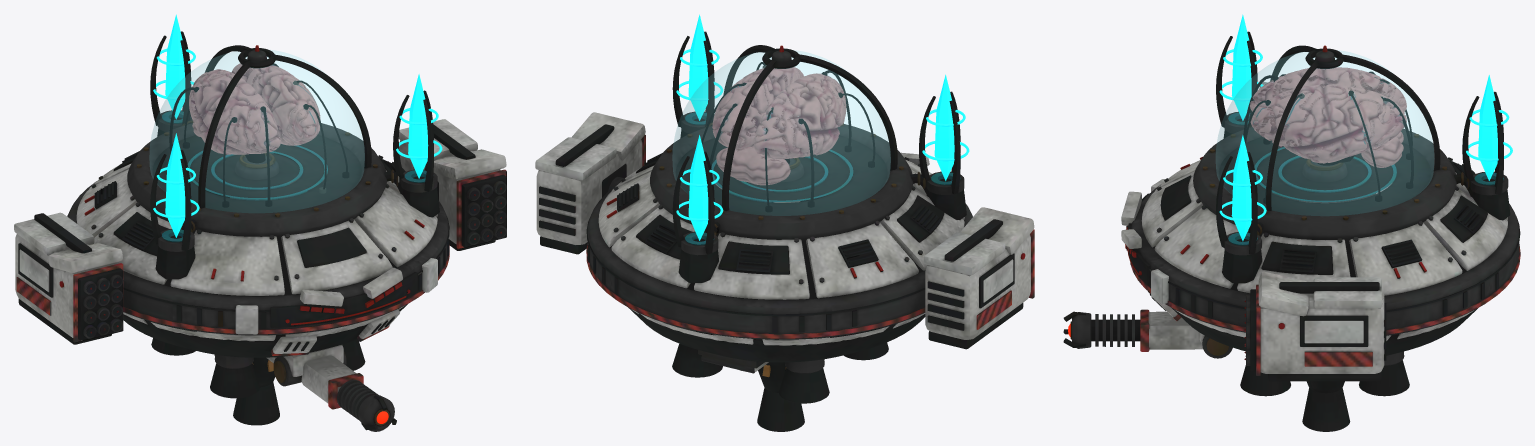
Rendered from boss-nanobot.glb.
3 renders of one model, left to right at view 1: azimuth 30°, elevation 25°; view 2: azimuth 150°, elevation 25°; view 3: azimuth 270°, elevation 25°, orthographic.
Parts seen in each view (by area): view 1: attack-membrane, nanobot-dome, nanobot-pod-L, nanobot-brain, nanobot-pod-R, nanobot-pylon-1, nanobot-pylon-2, nanobot-pylon-0; view 2: attack-membrane, nanobot-dome, nanobot-brain, nanobot-pod-L, nanobot-pod-R, nanobot-pylon-1, nanobot-pylon-0, nanobot-pylon-2; view 3: attack-membrane, nanobot-dome, nanobot-pod-R, nanobot-brain, nanobot-pylon-2, nanobot-pylon-0, nanobot-pylon-1.
Part boxes in pixels (left/top/right/bottom): attack-membrane: left=67, top=31, right=449, bottom=431; nanobot-dome: left=149, top=50, right=364, bottom=212; nanobot-pod-L: left=14, top=212, right=123, bottom=344; nanobot-brain: left=169, top=63, right=349, bottom=207; nanobot-pod-R: left=398, top=119, right=506, bottom=250; nanobot-pylon-1: left=153, top=133, right=199, bottom=237; nanobot-pylon-2: left=396, top=74, right=442, bottom=178; nanobot-pylon-0: left=153, top=14, right=195, bottom=119; attack-membrane: left=586, top=31, right=972, bottom=431; nanobot-dome: left=672, top=50, right=890, bottom=215; nanobot-brain: left=701, top=62, right=875, bottom=212; nanobot-pod-L: left=924, top=207, right=1034, bottom=349; nanobot-pod-R: left=535, top=112, right=645, bottom=254; nanobot-pylon-1: left=922, top=74, right=969, bottom=180; nanobot-pylon-0: left=676, top=135, right=723, bottom=240; nanobot-pylon-2: left=676, top=14, right=723, bottom=120; attack-membrane: left=1063, top=31, right=1520, bottom=431; nanobot-dome: left=1216, top=50, right=1433, bottom=215; nanobot-pod-R: left=1244, top=271, right=1386, bottom=381; nanobot-brain: left=1243, top=67, right=1413, bottom=203; nanobot-pylon-2: left=1219, top=135, right=1266, bottom=241; nanobot-pylon-0: left=1466, top=75, right=1512, bottom=180; nanobot-pylon-1: left=1219, top=14, right=1263, bottom=120.
Bounding box in the file's own units: 2.25 × 1.82 × 2.
5 materials, 2 textured.
